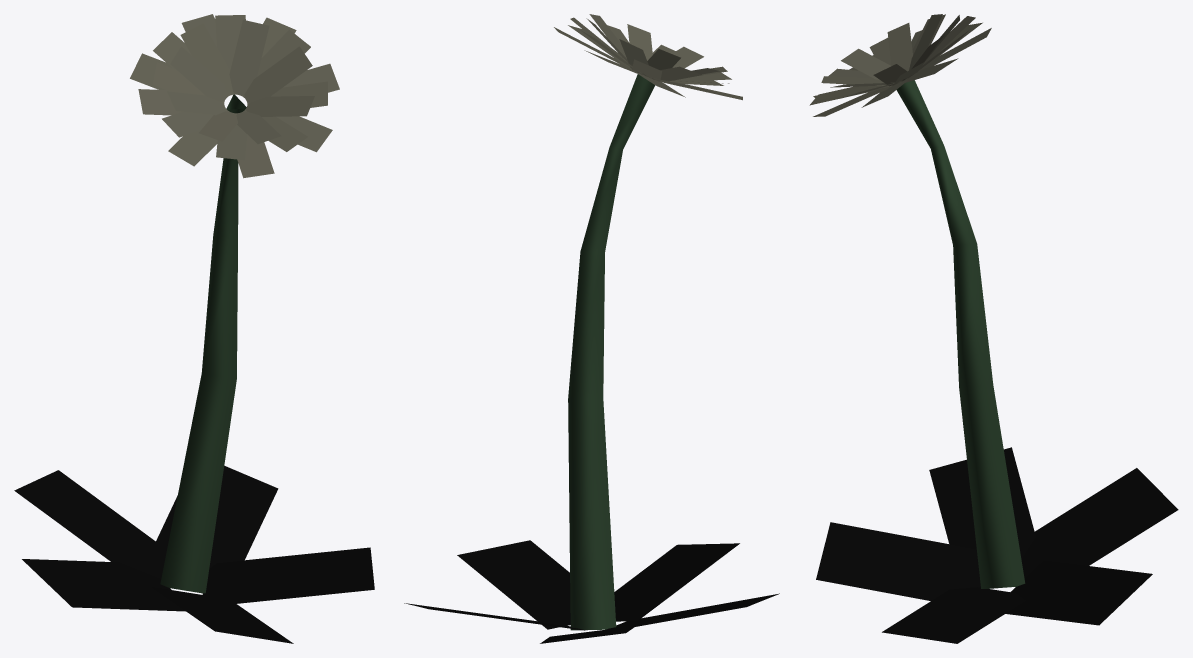
The model's file is flower.fbx.
3 renders of one model, left to right at view 1: azimuth 30°, elevation 25°; view 2: azimuth 150°, elevation 25°; view 3: azimuth 270°, elevation 25°, orthographic. The views are drawn at different scales.
Visible parts, largest first — view 1: dahliaPink1Leaf, dahliaPink1Flower, dahliaPink1Main; view 2: dahliaPink1Main, dahliaPink1Leaf, dahliaPink1Flower; view 3: dahliaPink1Leaf, dahliaPink1Main, dahliaPink1Flower.
Part boxes in pixels (x1,y1,x2,y2): dahliaPink1Leaf: [14, 465, 374, 643]; dahliaPink1Flower: [130, 14, 339, 178]; dahliaPink1Main: [160, 94, 246, 593]; dahliaPink1Main: [568, 74, 654, 630]; dahliaPink1Leaf: [404, 540, 779, 643]; dahliaPink1Flower: [554, 14, 742, 100]; dahliaPink1Leaf: [816, 447, 1178, 643]; dahliaPink1Main: [896, 80, 1025, 588]; dahliaPink1Flower: [809, 14, 991, 116].
Bounding box in the file's own units: 0.5971 × 1.05 × 0.6142.
